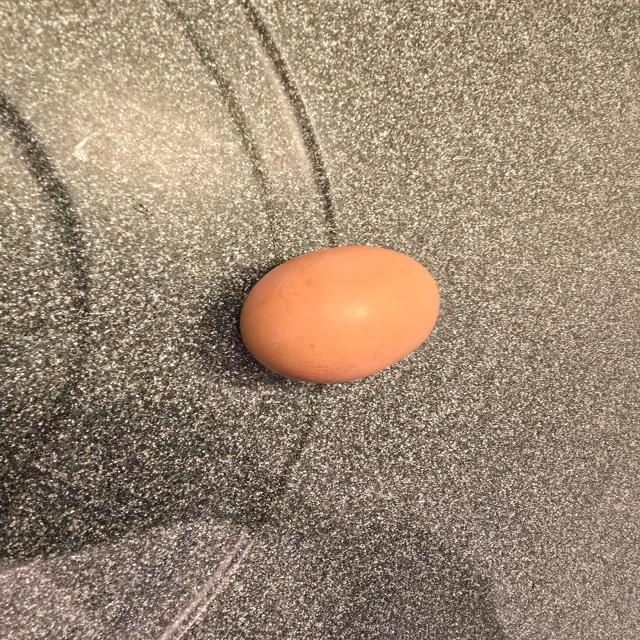Egg: (240, 246, 440, 383)
